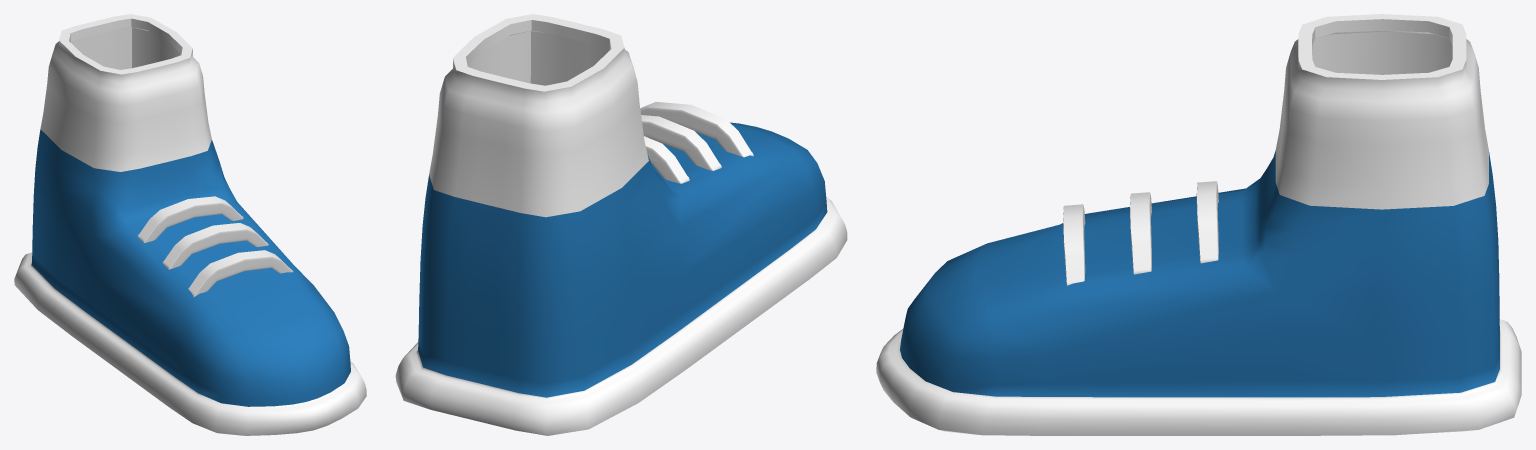
Rendered from Shoe_1.fbx.
3 renders of one model, left to right at view 1: azimuth 30°, elevation 25°; view 2: azimuth 150°, elevation 25°; view 3: azimuth 270°, elevation 25°, orthographic. The views are drawn at different scales.
Visible parts, largest first — view 1: Shoe_1; view 2: Shoe_1; view 3: Shoe_1.
Boxes of the visible parts, x1,y1,x2,y2 form: Shoe_1: (14, 14, 366, 435); Shoe_1: (395, 14, 847, 435); Shoe_1: (876, 14, 1521, 435).
Bounding box in the file's own units: 0.1194 × 0.1715 × 0.294.
